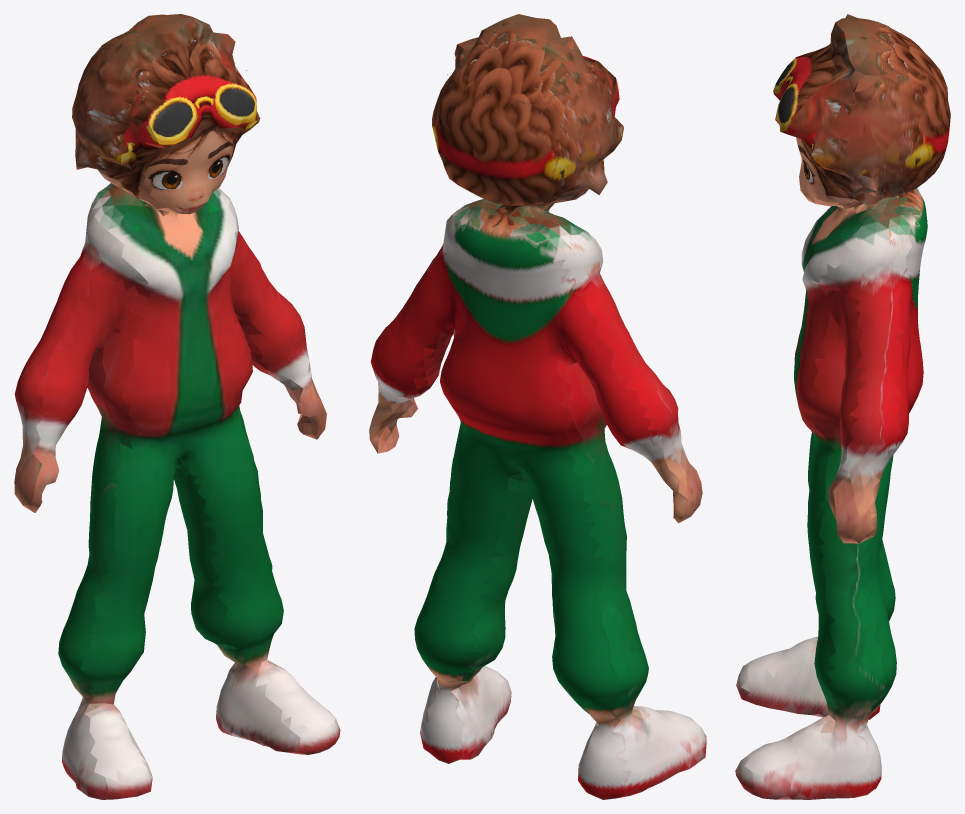
The model's file is jinglebell-echo-toon-x5.glb.
3 renders of one model, left to right at view 1: azimuth 30°, elevation 25°; view 2: azimuth 150°, elevation 25°; view 3: azimuth 270°, elevation 25°, orthographic. The views are drawn at different scales.
Parts seen in each view (by area): view 1: world; view 2: world; view 3: world.
Part boxes in pixels (x1=…): world: x1=14, y1=14, x2=340, y2=799; world: x1=369, y1=14, x2=706, y2=799; world: x1=735, y1=14, x2=950, y2=799.
Bounding box in the file's own units: 2.08 × 4.7 × 1.26.
1 material, 1 textured.
